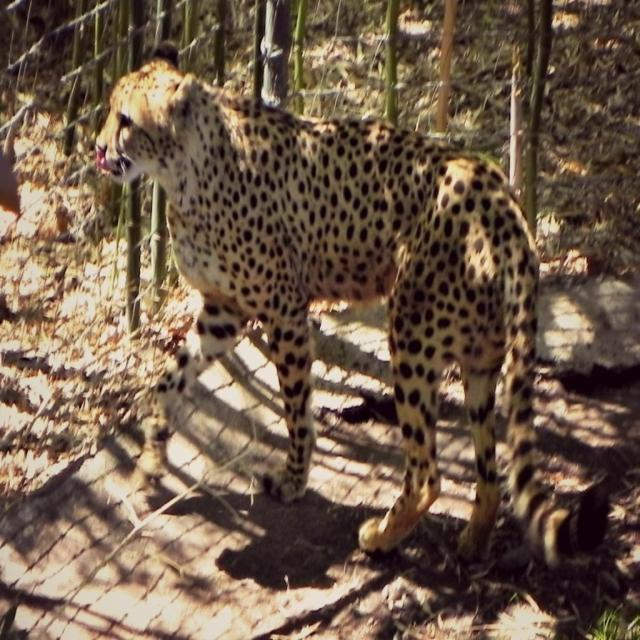Cheetah: (94, 39, 609, 572)
